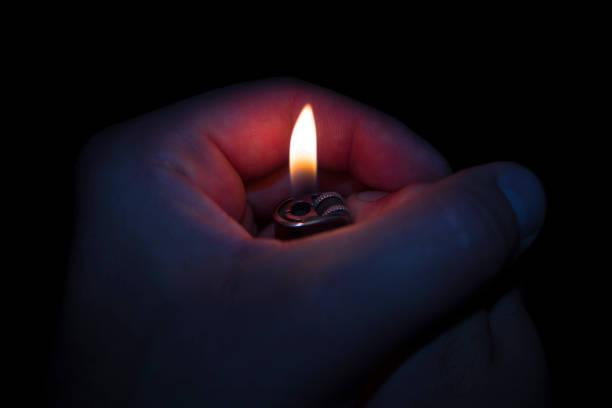Fire: (287, 103, 323, 199)
